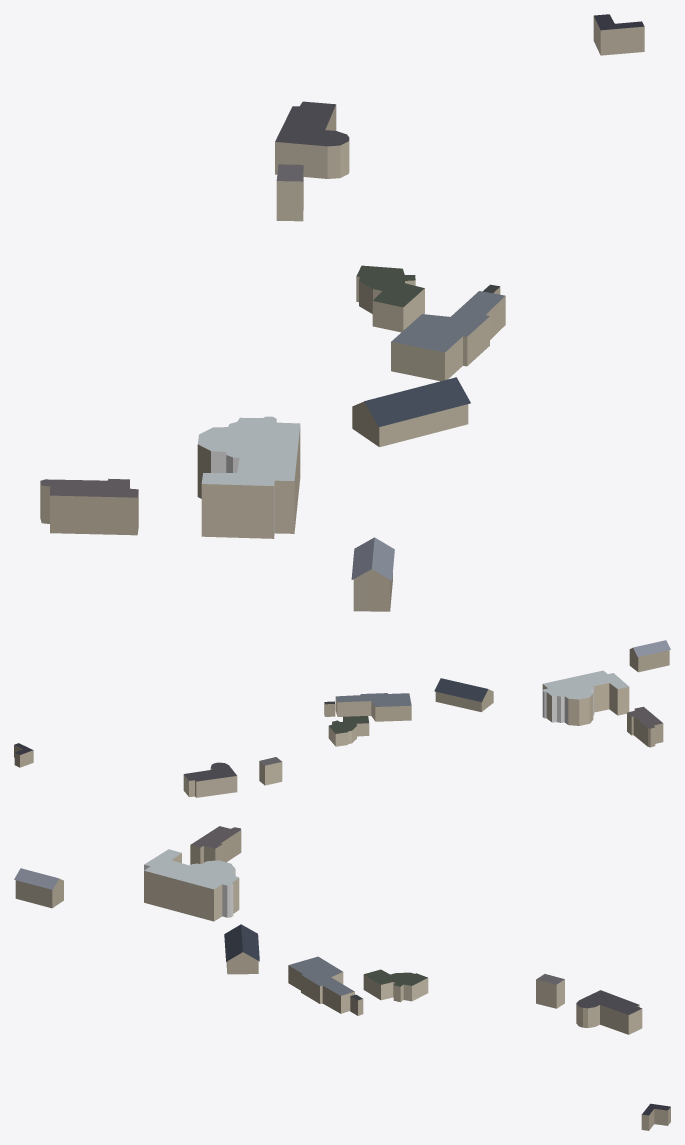
3 views of the same model, one above another, from view 1: azimuth 30°, elevation 25°; view 2: azimuth 150°, elevation 25°; view 3: azimuth 270°, elevation 25° (orthographic). The views are drawn at different scales.
Visible parts, largest first — view 1: tuile; view 2: tuile; view 3: tuile.
Part boxes in pixels (x1=…): tuile: x1=40, y1=14, x2=644, y2=611; tuile: x1=14, y1=640, x2=670, y2=797; tuile: x1=14, y1=826, x2=670, y2=1130.
Bounding box in the file's own units: 190 × 11.01 × 188.
